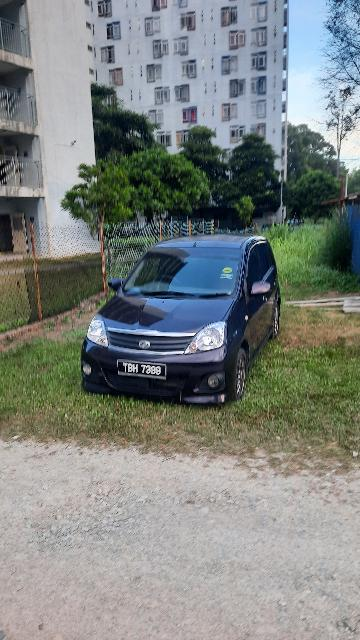License_Plate: (116, 357, 169, 384)
car: (77, 234, 283, 410)
